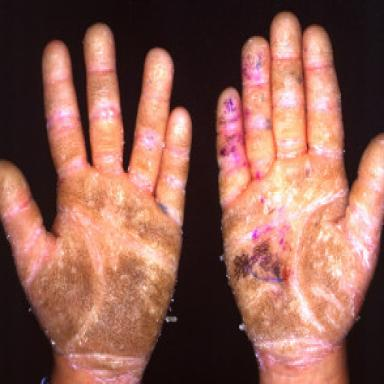eczema: (0, 25, 191, 382), (217, 13, 384, 364)
